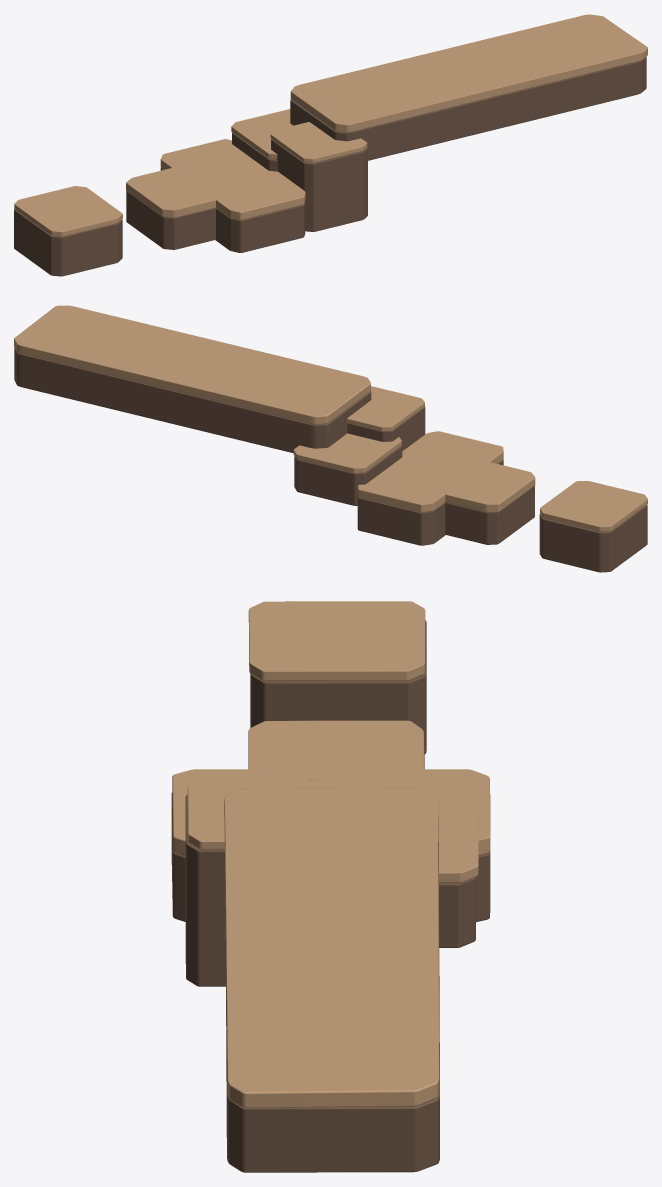
The model's file is level_1_block_2.gltf.
3 views of the same model, one above another, from view 1: azimuth 30°, elevation 25°; view 2: azimuth 150°, elevation 25°; view 3: azimuth 270°, elevation 25° (orthographic). The views are drawn at different scales.
Visible parts, largest first — view 1: Shape (×8), Shape 6 (×6); view 2: Shape (×8), Shape 6 (×6); view 3: Shape (×6), Shape 6 (×6).
Boxes of the visible parts, left/top/right/bottom form: Shape (×8): left=126, top=14, right=647, bottom=252; Shape 6 (×6): left=14, top=109, right=367, bottom=276; Shape (×8): left=14, top=305, right=535, bottom=545; Shape 6 (×6): left=293, top=386, right=647, bottom=572; Shape (×6): left=171, top=720, right=490, bottom=1172; Shape 6 (×6): left=185, top=601, right=478, bottom=986.
Bounding box in the file's own units: 27.4 × 3.96 × 6.38.
